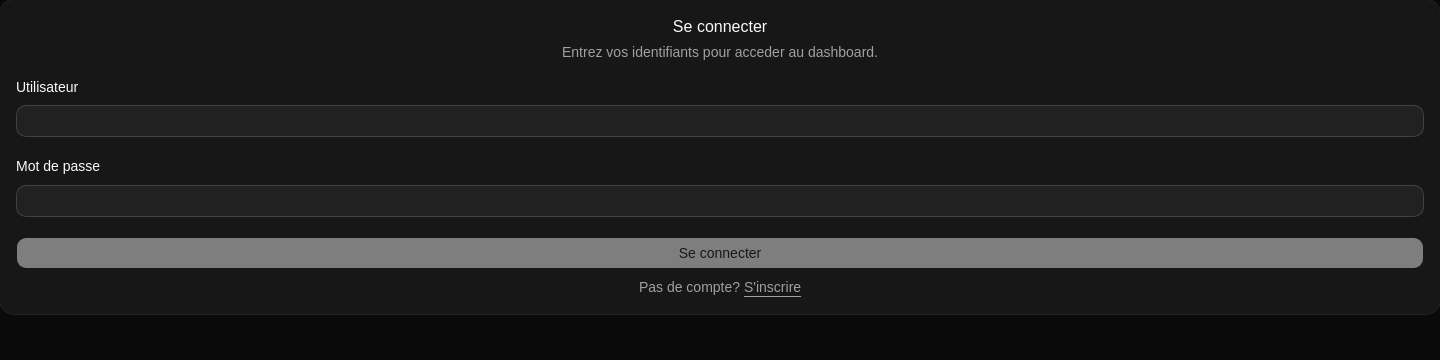
it: LoginForm › shows an error when credentials are invalid
Type "admin" into the field labelled "Utilisateur" at (720, 121), box [16, 105, 1424, 137]
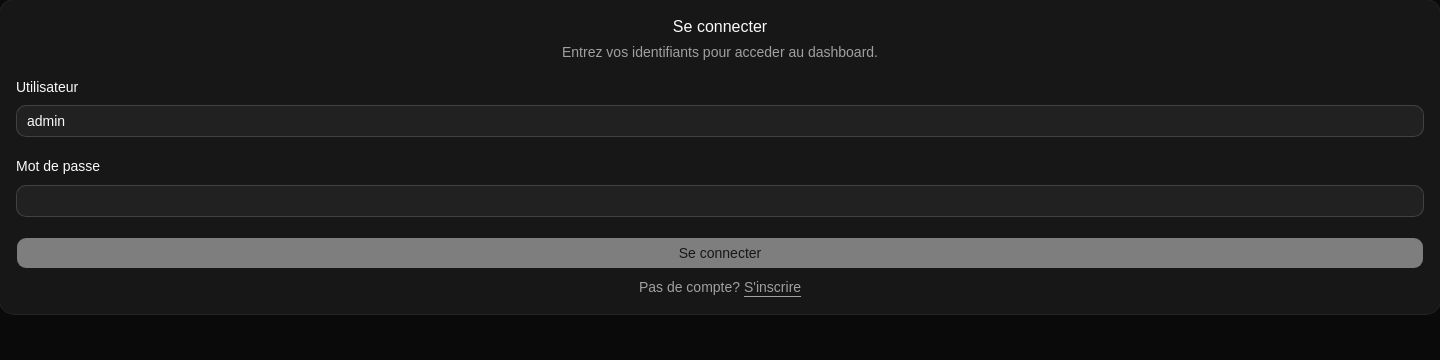
Type "wrong-password" into the password field labelled "Mot de passe" at (720, 200), box [16, 184, 1424, 216]
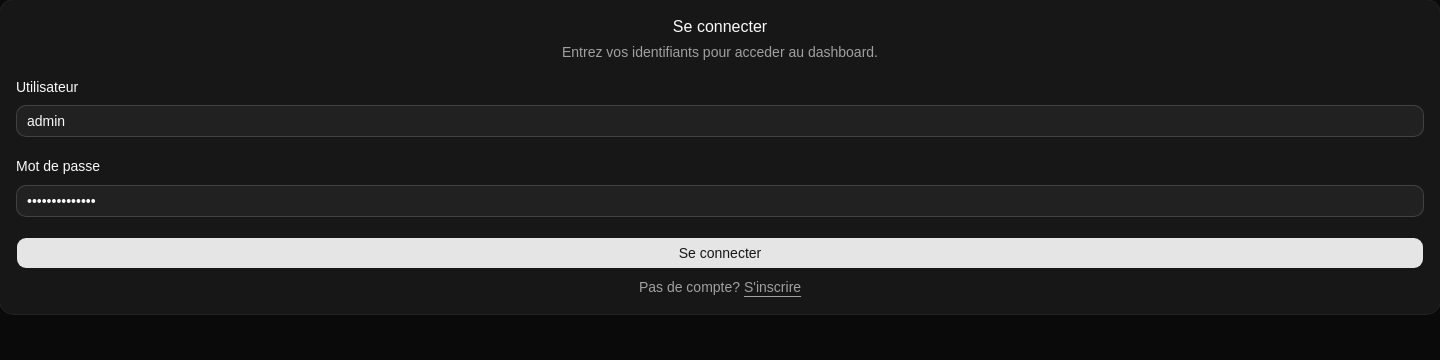
Click the button "Se connecter" at (720, 252), box [16, 236, 1424, 268]
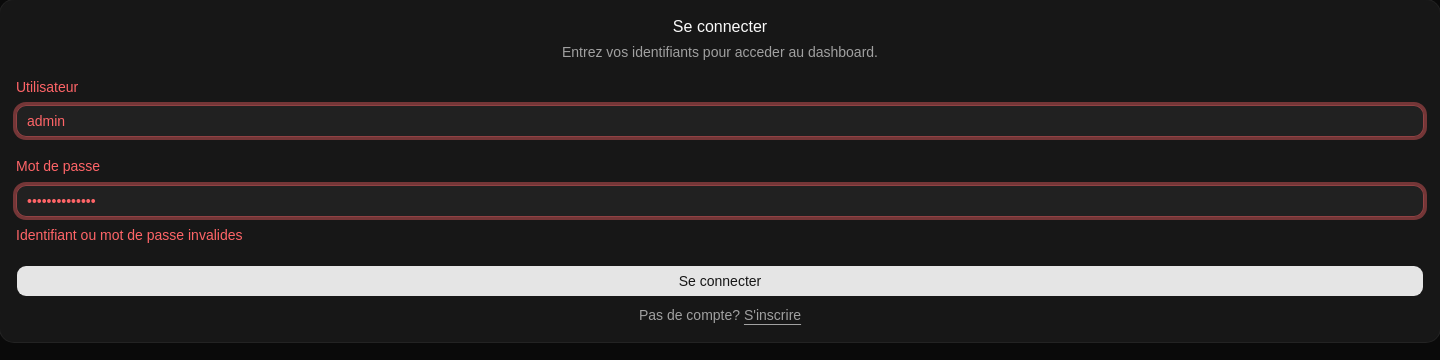
Check: the text "Identifiant ou mot de passe invalides" is shown, box [16, 226, 242, 242]
